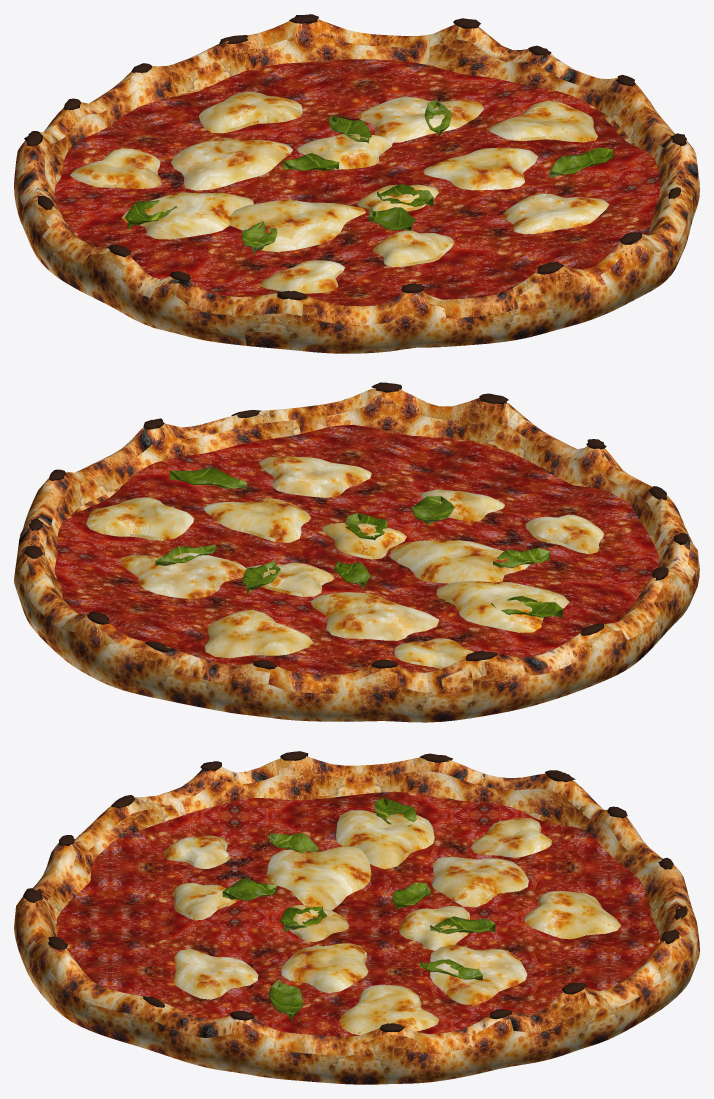
The model's file is pizza-margherita.glb.
3 renders of one model, top to bottom at view 1: azimuth 30°, elevation 25°; view 2: azimuth 150°, elevation 25°; view 3: azimuth 270°, elevation 25°, orthographic.
Visible parts, largest first — view 1: Cobertura_assada, Cornicione_alveolado, Ilha_de_queijo_fundido, Folha_de_manjericao, Bolha_de_forno; view 2: Cobertura_assada, Cornicione_alveolado, Ilha_de_queijo_fundido, Folha_de_manjericao, Bolha_de_forno; view 3: Cobertura_assada, Cornicione_alveolado, Ilha_de_queijo_fundido, Folha_de_manjericao, Bolha_de_forno.
Boxes of the visible parts, bbox=[...] form: Cobertura_assada: bbox=[54, 59, 660, 306]; Cornicione_alveolado: bbox=[14, 19, 699, 353]; Ilha_de_queijo_fundido: bbox=[70, 91, 609, 293]; Folha_de_manjericao: bbox=[125, 99, 613, 255]; Bolha_de_forno: bbox=[24, 14, 686, 300]; Cobertura_assada: bbox=[54, 424, 659, 674]; Cornicione_alveolado: bbox=[14, 388, 699, 722]; Ilha_de_queijo_fundido: bbox=[86, 456, 603, 668]; Folha_de_manjericao: bbox=[155, 468, 562, 617]; Bolha_de_forno: bbox=[24, 382, 689, 669]; Cobertura_assada: bbox=[56, 791, 659, 1036]; Cornicione_alveolado: bbox=[14, 756, 699, 1084]; Ilha_de_queijo_fundido: bbox=[163, 810, 621, 1035]; Folha_de_manjericao: bbox=[222, 797, 495, 1022]; Bolha_de_forno: bbox=[23, 751, 687, 1032].
Bounding box in the file's own units: 0.3 × 0.035 × 0.3.
5 materials, 4 textured.
